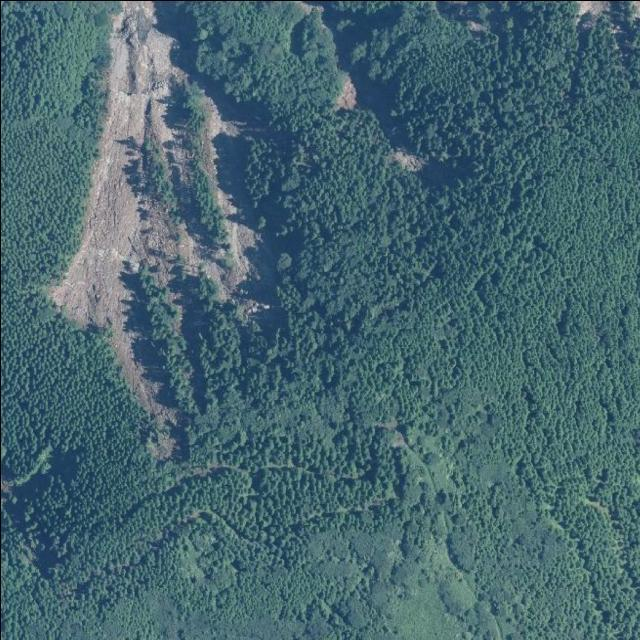landslide: (50, 0, 255, 454)
